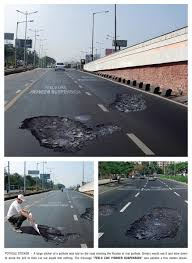pothole: (18, 115, 119, 155), (124, 203, 183, 246), (111, 89, 150, 113)
